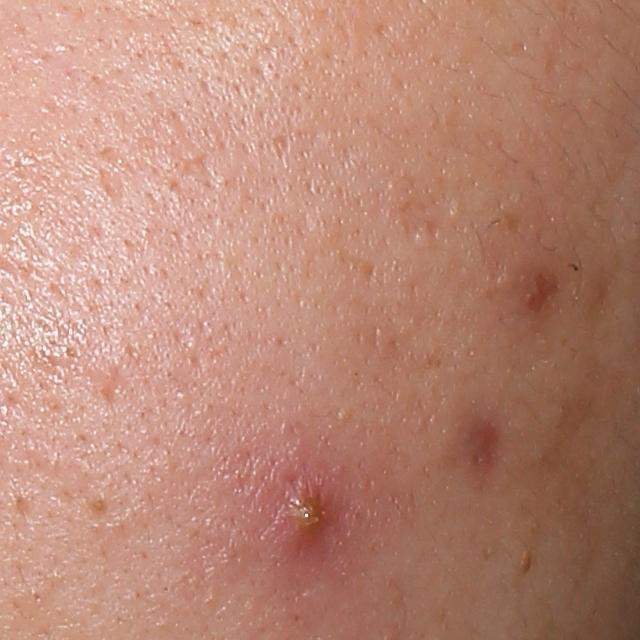atrophic_scar: (176, 137, 225, 193), (392, 198, 451, 243), (256, 131, 294, 169), (96, 167, 128, 205)
comedo: (62, 342, 82, 362)
